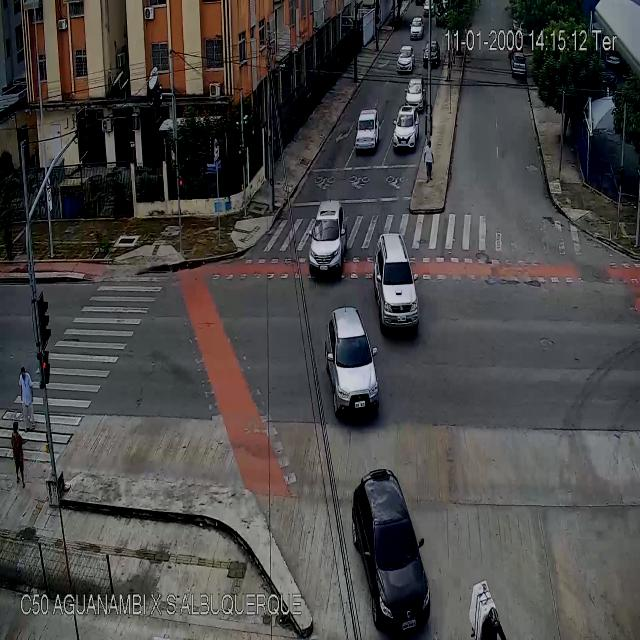Car: (352, 472, 430, 632), (326, 306, 378, 407), (373, 233, 420, 329), (308, 201, 345, 277), (393, 102, 417, 150), (356, 109, 378, 148), (404, 78, 424, 110), (423, 39, 439, 65), (512, 52, 528, 78), (397, 46, 412, 73), (409, 15, 423, 40), (425, 1, 435, 17)
Motorcycle: (469, 582, 506, 640)
